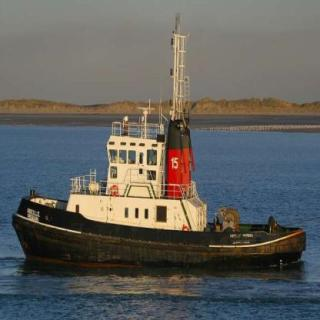Tug Boat: (2, 88, 309, 261)
